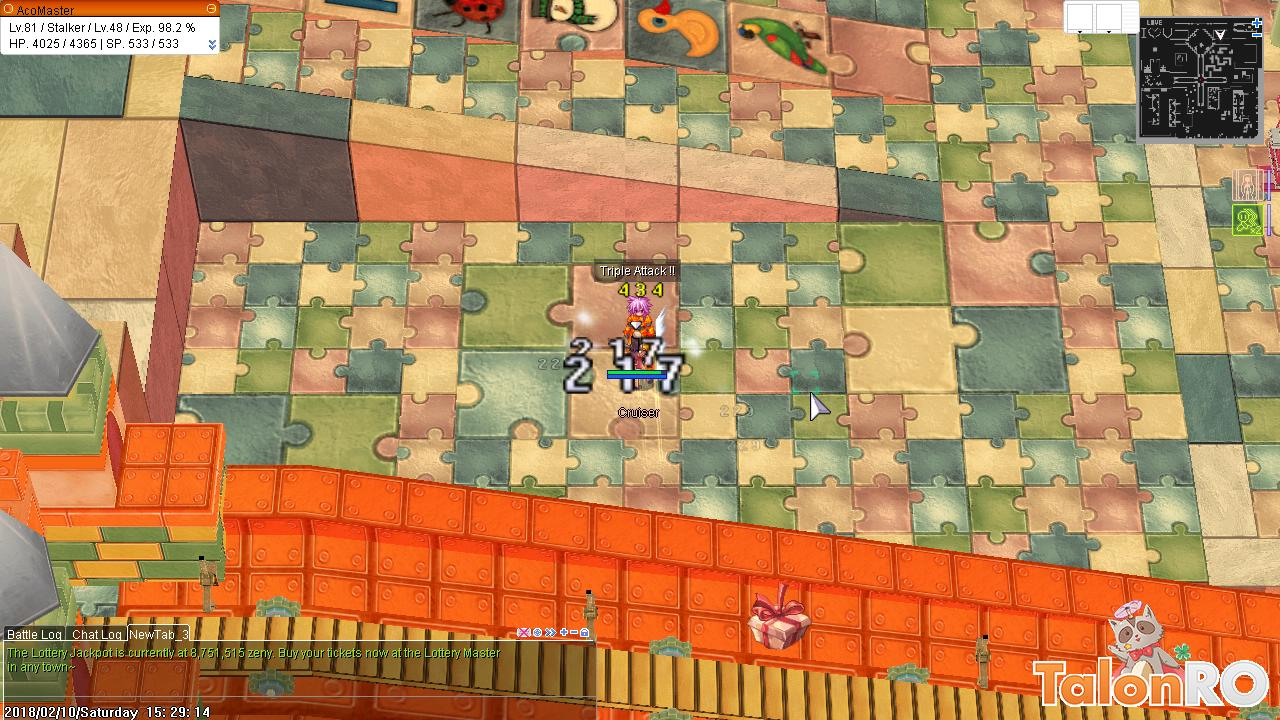myst_case: (746, 576, 816, 657)
